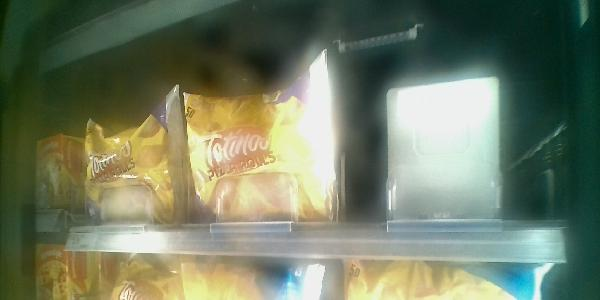icecream: (188, 49, 333, 225), (82, 80, 192, 230), (30, 128, 85, 218)
